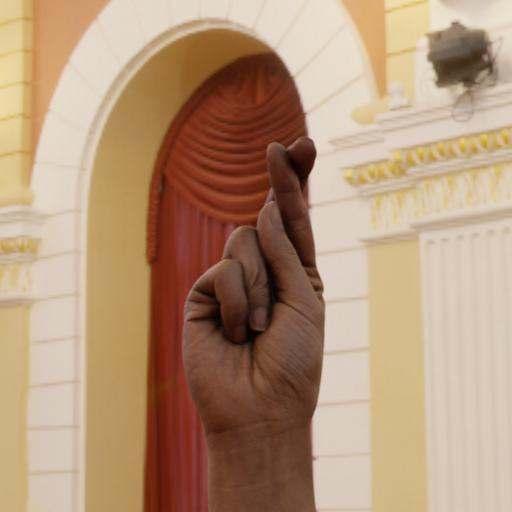R: (154, 124, 354, 490)
